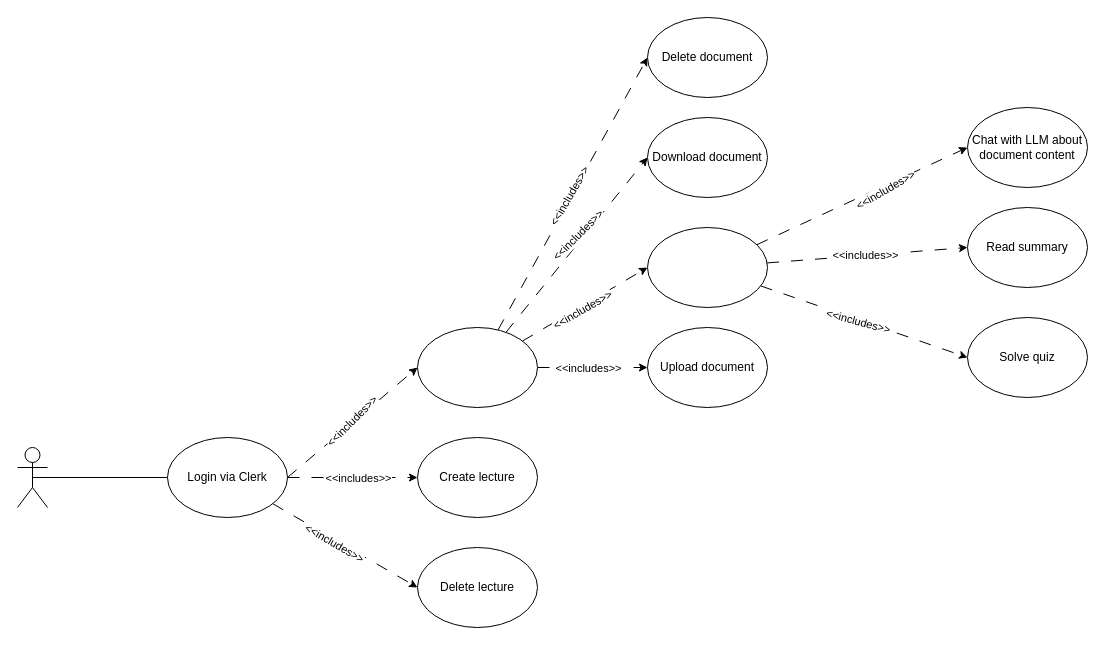
This 1105x645 diagram has some shape labels left out. The shapes that lost their labels are listed below. From the top down, each one's centre as x and y in pixels, then its label:
[707,267]: View uploaded documents
[477,367]: View lectures
[32,477]: Actor
